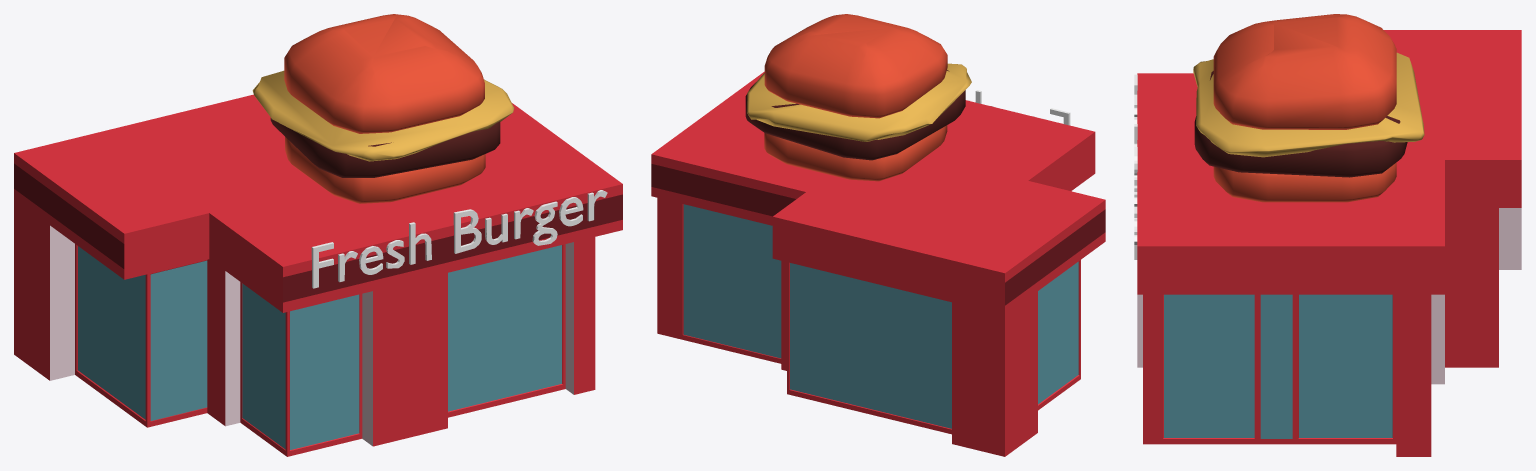
File: Burger.fbx
The picture shows the model from 3 angles, left to right: view 1: azimuth 30°, elevation 25°; view 2: azimuth 150°, elevation 25°; view 3: azimuth 270°, elevation 25°; orthographic projection. The views are drawn at different scales.
Visible parts, largest first — view 1: BCube_LOD0; view 2: BCube_LOD0; view 3: BCube_LOD0.
Part boxes in pixels (x1,y1,x2,y2): BCube_LOD0: [14, 14, 622, 456]; BCube_LOD0: [651, 14, 1105, 456]; BCube_LOD0: [1134, 14, 1521, 456].
Size of what is drawn, in the model's own units: 679 by 506 by 513.
